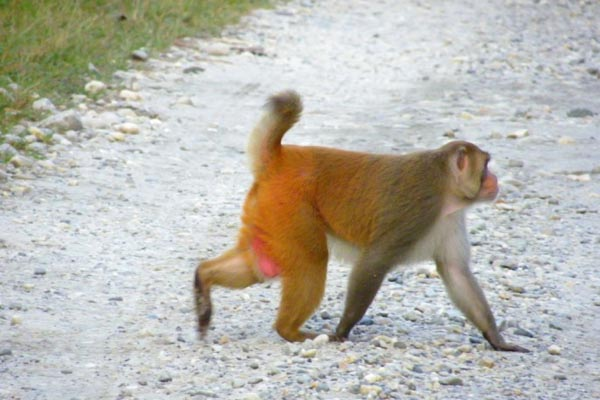monkey: (177, 79, 545, 366)
